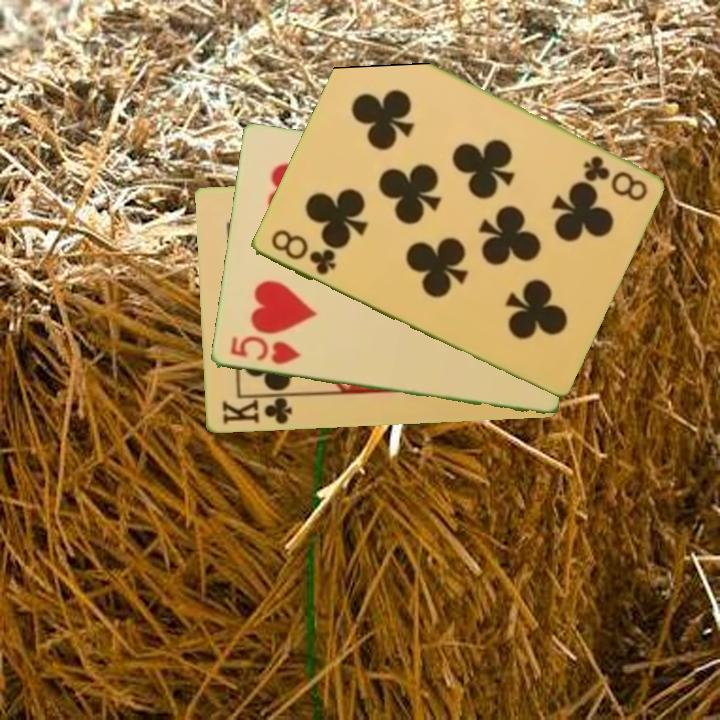5h: (226, 333, 303, 368)
8c: (266, 226, 339, 279), (579, 152, 650, 204)
Kc: (218, 392, 298, 427)
